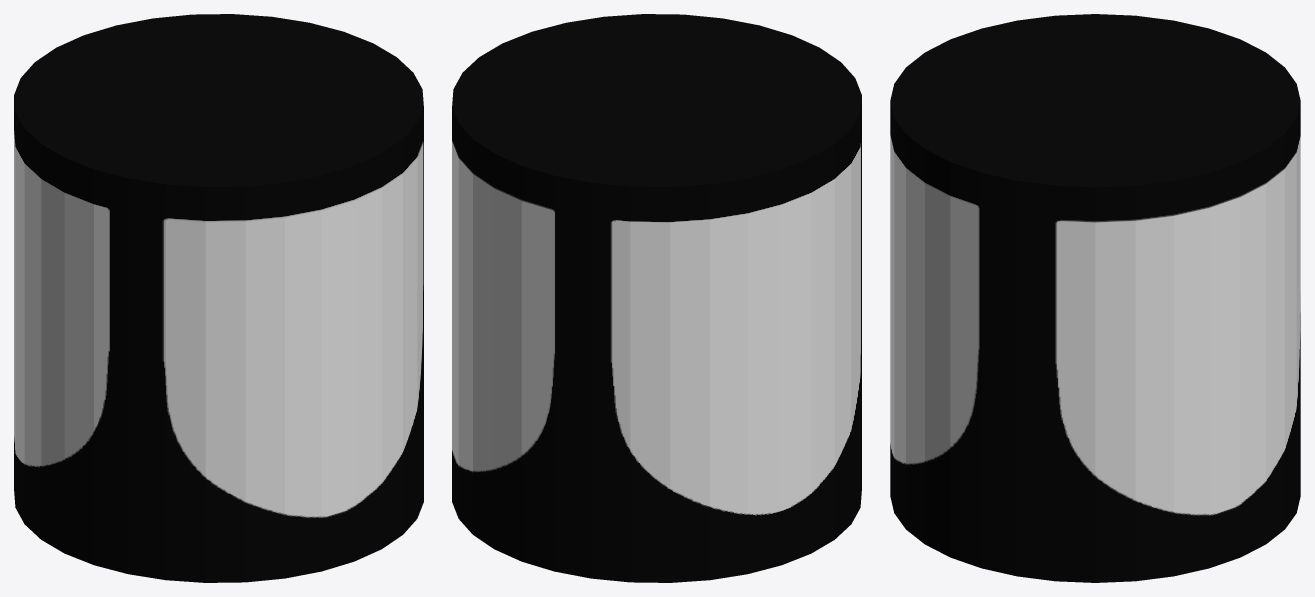
Rendered from ShieldCylinder.fbx.
3 renders of one model, left to right at view 1: azimuth 30°, elevation 25°; view 2: azimuth 150°, elevation 25°; view 3: azimuth 270°, elevation 25°, orthographic.
Visible parts, largest first — view 1: ShieldCylinder; view 2: ShieldCylinder; view 3: ShieldCylinder.
Part boxes in pixels (x1,y1,x2,y2): ShieldCylinder: (14,14,423,582); ShieldCylinder: (452,14,861,582); ShieldCylinder: (890,14,1300,582).
Size of the model in its own units: 280 by 280 by 298.
